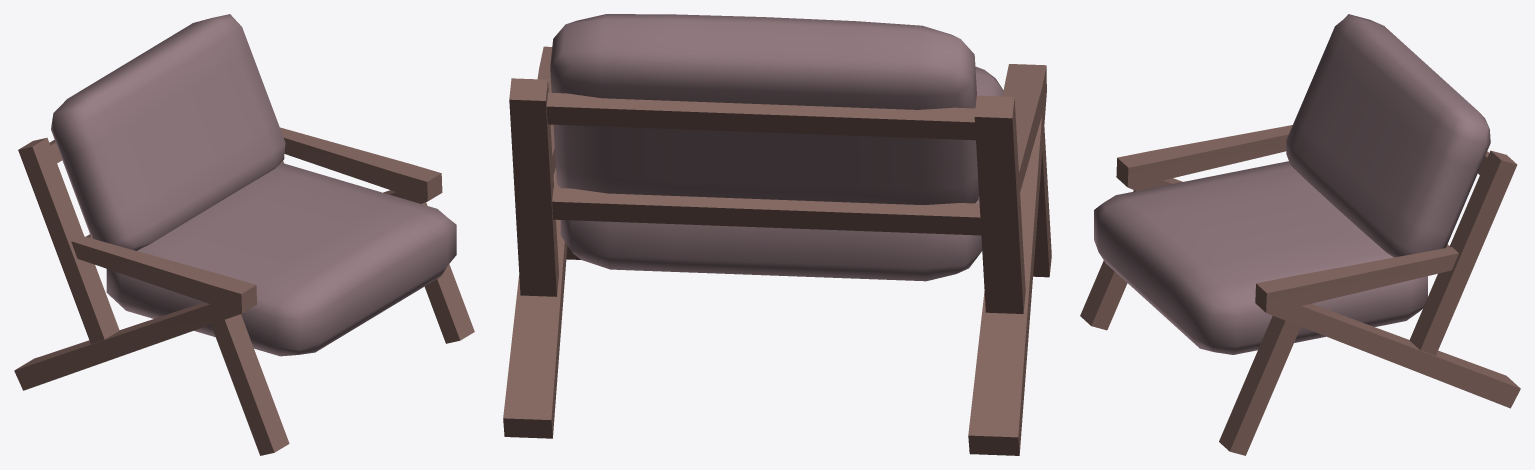
File: relax-chair-transformed.glb
3 renders of one model, left to right at view 1: azimuth 30°, elevation 25°; view 2: azimuth 150°, elevation 25°; view 3: azimuth 270°, elevation 25°, orthographic. The views are drawn at different scales.
Parts seen in each view (by area): view 1: Cube 60.002, Cube 63, Merged Geometry.012; view 2: Merged Geometry.012, Cube 63, Cube 60.002; view 3: Cube 60.002, Cube 63, Merged Geometry.012.
Boxes of the visible parts, bbox=[...] form: Cube 60.002: bbox=[106, 163, 456, 356]; Cube 63: bbox=[51, 14, 285, 250]; Merged Geometry.012: bbox=[14, 127, 474, 455]; Merged Geometry.012: bbox=[503, 46, 1051, 455]; Cube 63: bbox=[550, 14, 978, 205]; Cube 60.002: bbox=[560, 66, 1003, 281]; Cube 60.002: bbox=[1094, 161, 1427, 354]; Cube 63: bbox=[1286, 14, 1490, 257]; Merged Geometry.012: bbox=[1080, 125, 1520, 455].
Bounding box in the file's own units: 1.64 × 1.12 × 1.57.
